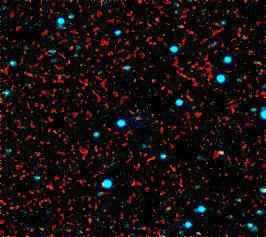star: (119, 102, 149, 132)
